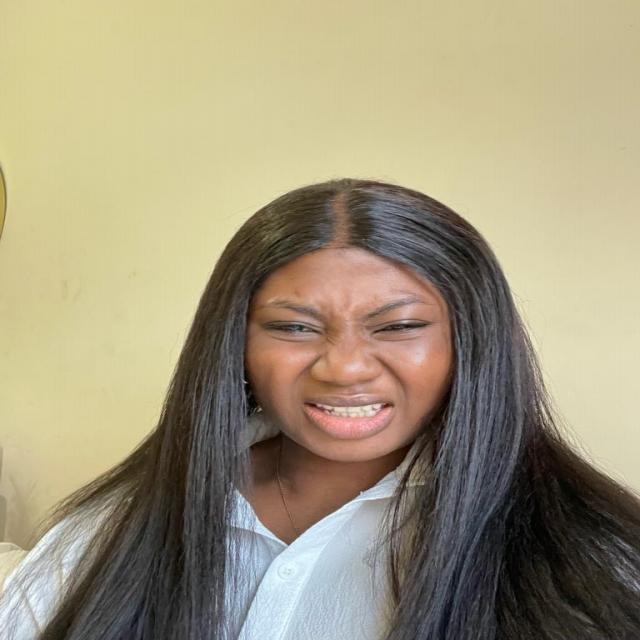sad: (236, 186, 480, 472)
